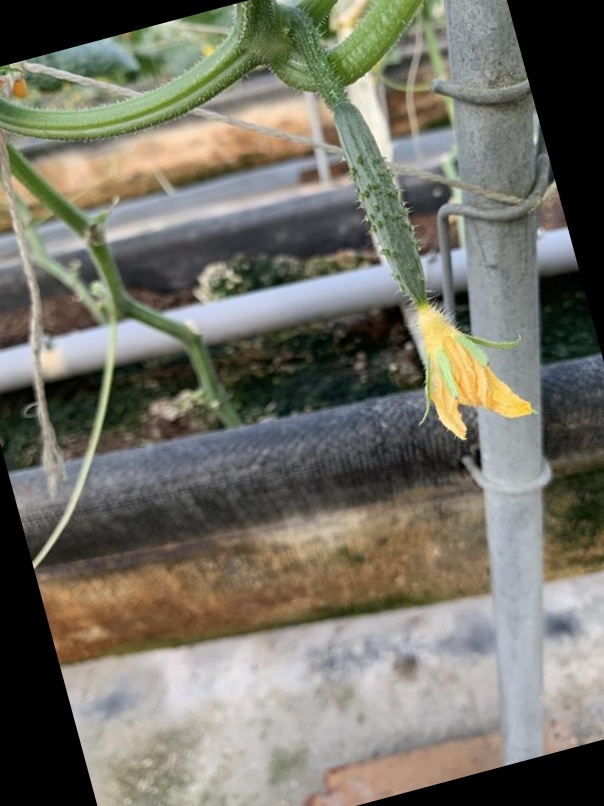bear: (310, 93, 533, 444)
